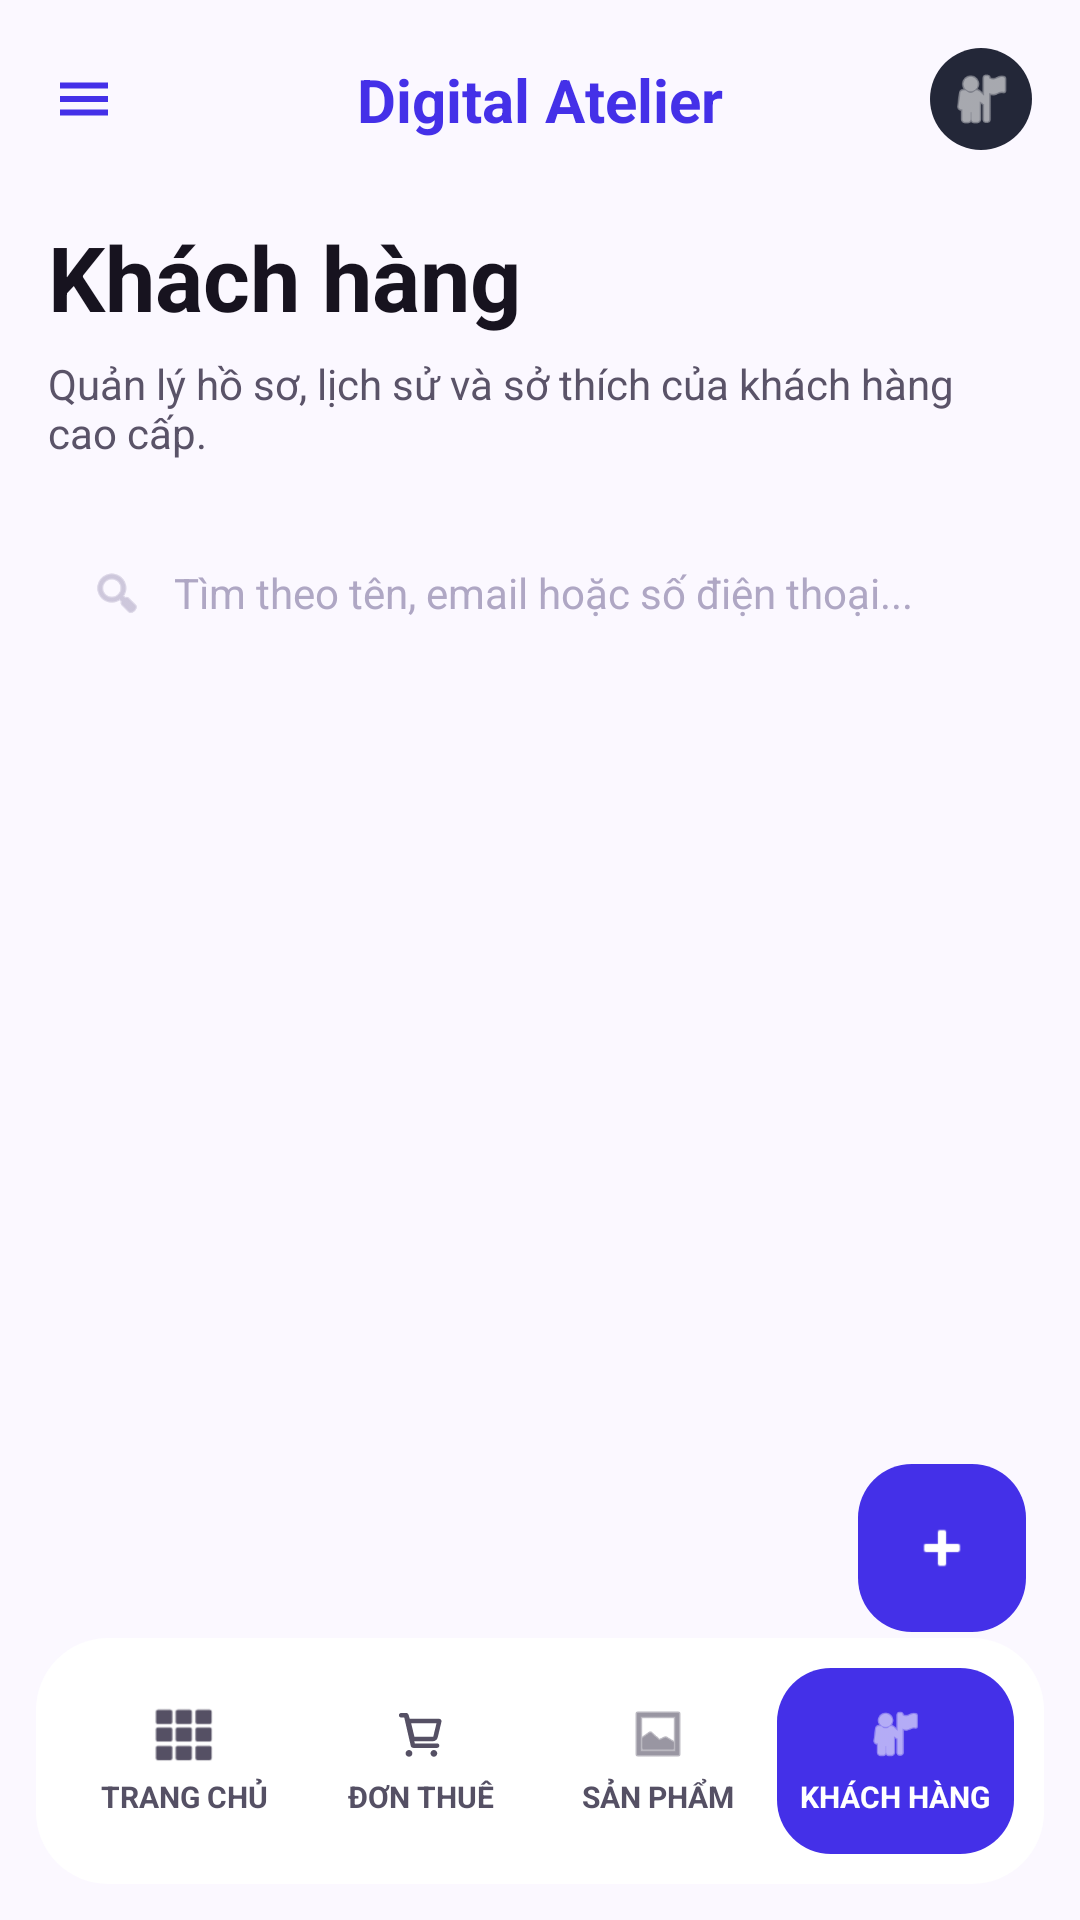

Icon click points for this 1080w x 1920h phone screenshot, format (x=x, y=y):
add: (x=942, y=1548)
cart simple: (x=420, y=1735)
dialer: (x=183, y=1735)
gallery: (x=658, y=1734)
hamburger menu: (x=84, y=99)
search: (x=117, y=593)
Tài khoản quản trị: (x=981, y=99)
